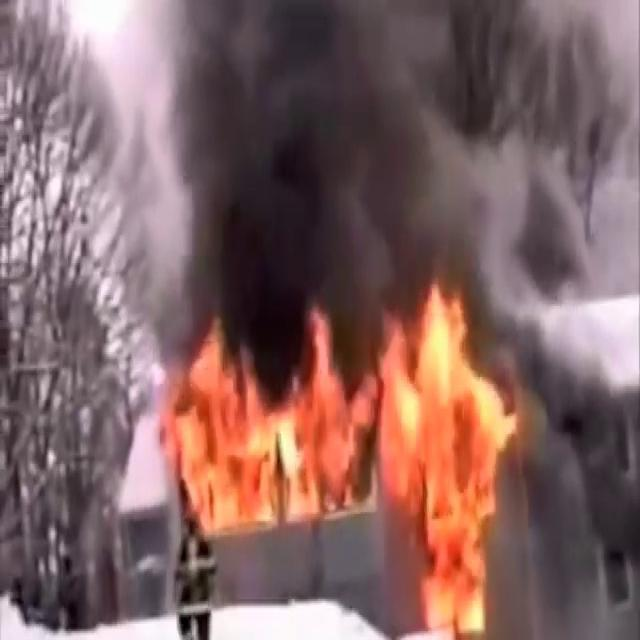Fire: (158, 276, 520, 618)
Smoke: (132, 0, 628, 359)
